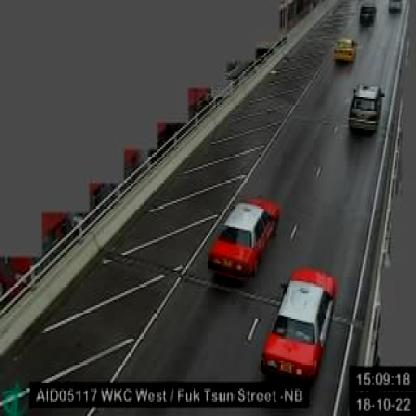Car: (258, 267, 338, 385), (206, 197, 282, 284), (348, 82, 386, 136), (331, 35, 358, 66), (358, 2, 378, 28), (387, 0, 403, 16)
